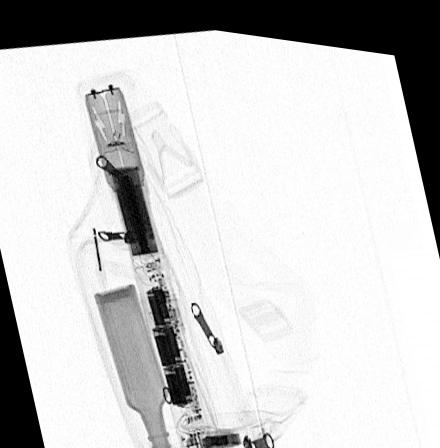Baton: (81, 80, 209, 431)
